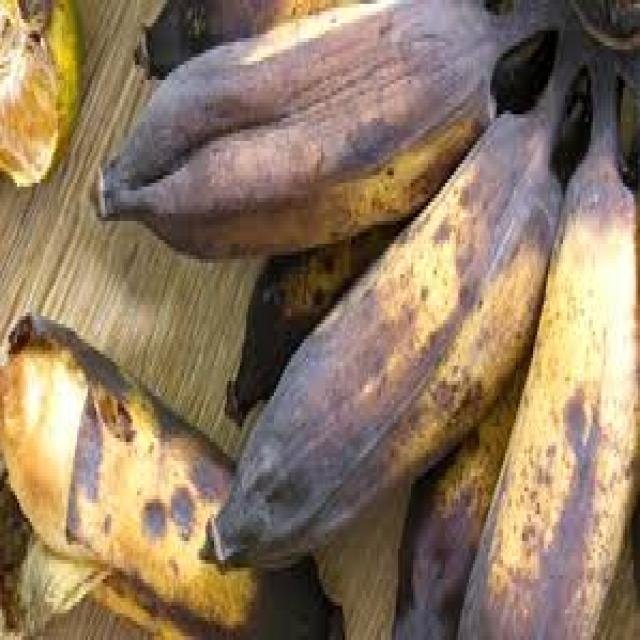organic waste: (195, 8, 582, 568), (90, 0, 563, 251), (0, 308, 340, 636), (449, 46, 638, 636), (218, 214, 409, 431), (0, 0, 86, 187), (130, 0, 328, 76)
